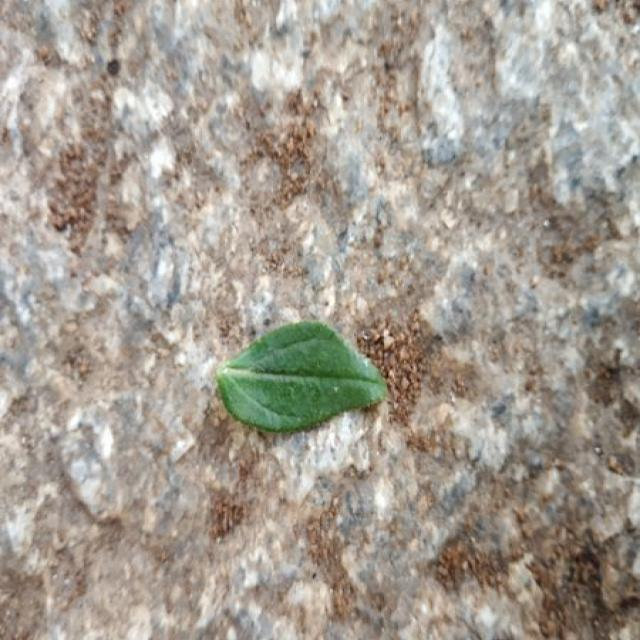Astma_weed: (217, 321, 387, 432)
